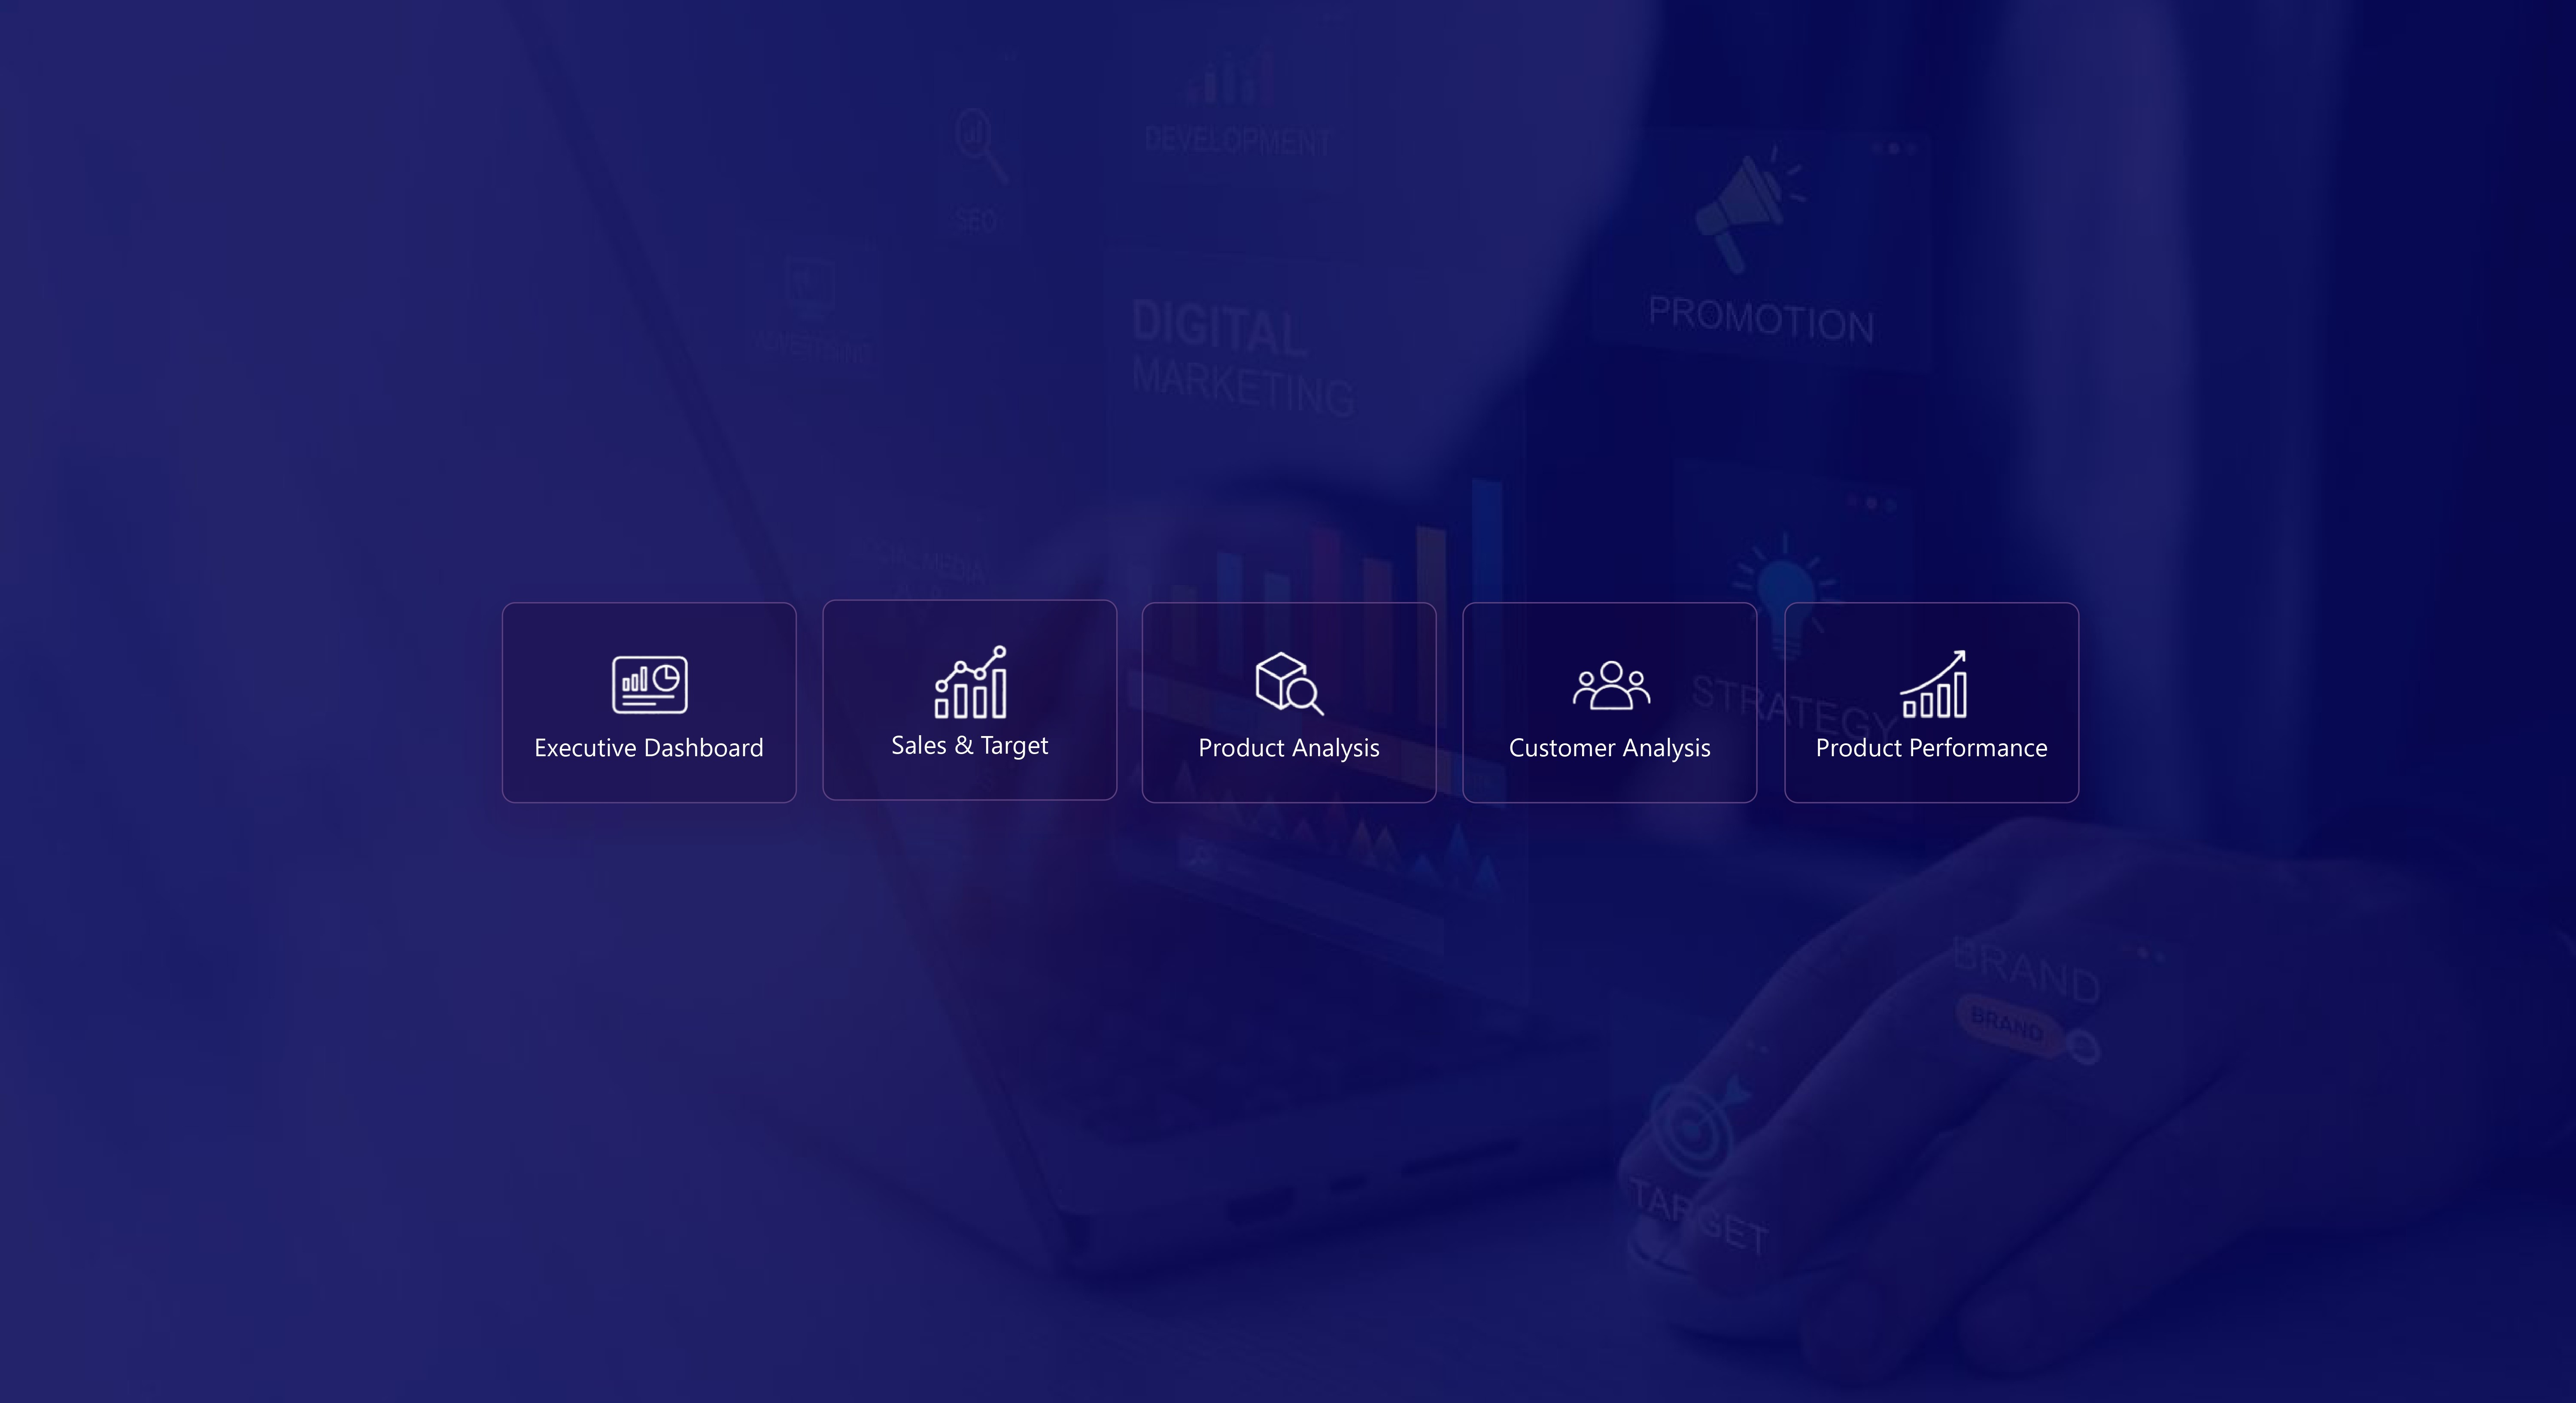

Layout of this report page (visuals, bound fields, positions):
{"tool":"powerbi","page":{"name":"Home","canvas":[1920,1080],"ordinal":0},"visuals":[{"type":"actionButton","title":"Executive Dashboard","box":[374.2,463.3,220,150],"z":1000},{"type":"actionButton","title":"Executive Dashboard","box":[612.8,460.8,220,150],"z":2000},{"type":"actionButton","title":"Executive Dashboard","box":[851.4,463.3,220,150],"z":3000},{"type":"actionButton","title":"Executive Dashboard","box":[1090,462.5,220,150],"z":4000},{"type":"actionButton","title":"Executive Dashboard","box":[1330,462.5,220,150],"z":5000}]}

Visuals, with their boxes on the page's 1920x1080 design canvas (x1, y1, x2, y2). These are canvas units, not pixel positions in the 2576x1403 screenshot, which may show the page scaled, cropped or inside an application window:
"Executive Dashboard" actionButton: 374, 463, 594, 613
"Executive Dashboard" actionButton: 613, 461, 833, 611
"Executive Dashboard" actionButton: 851, 463, 1071, 613
"Executive Dashboard" actionButton: 1090, 462, 1310, 612
"Executive Dashboard" actionButton: 1330, 462, 1550, 612
